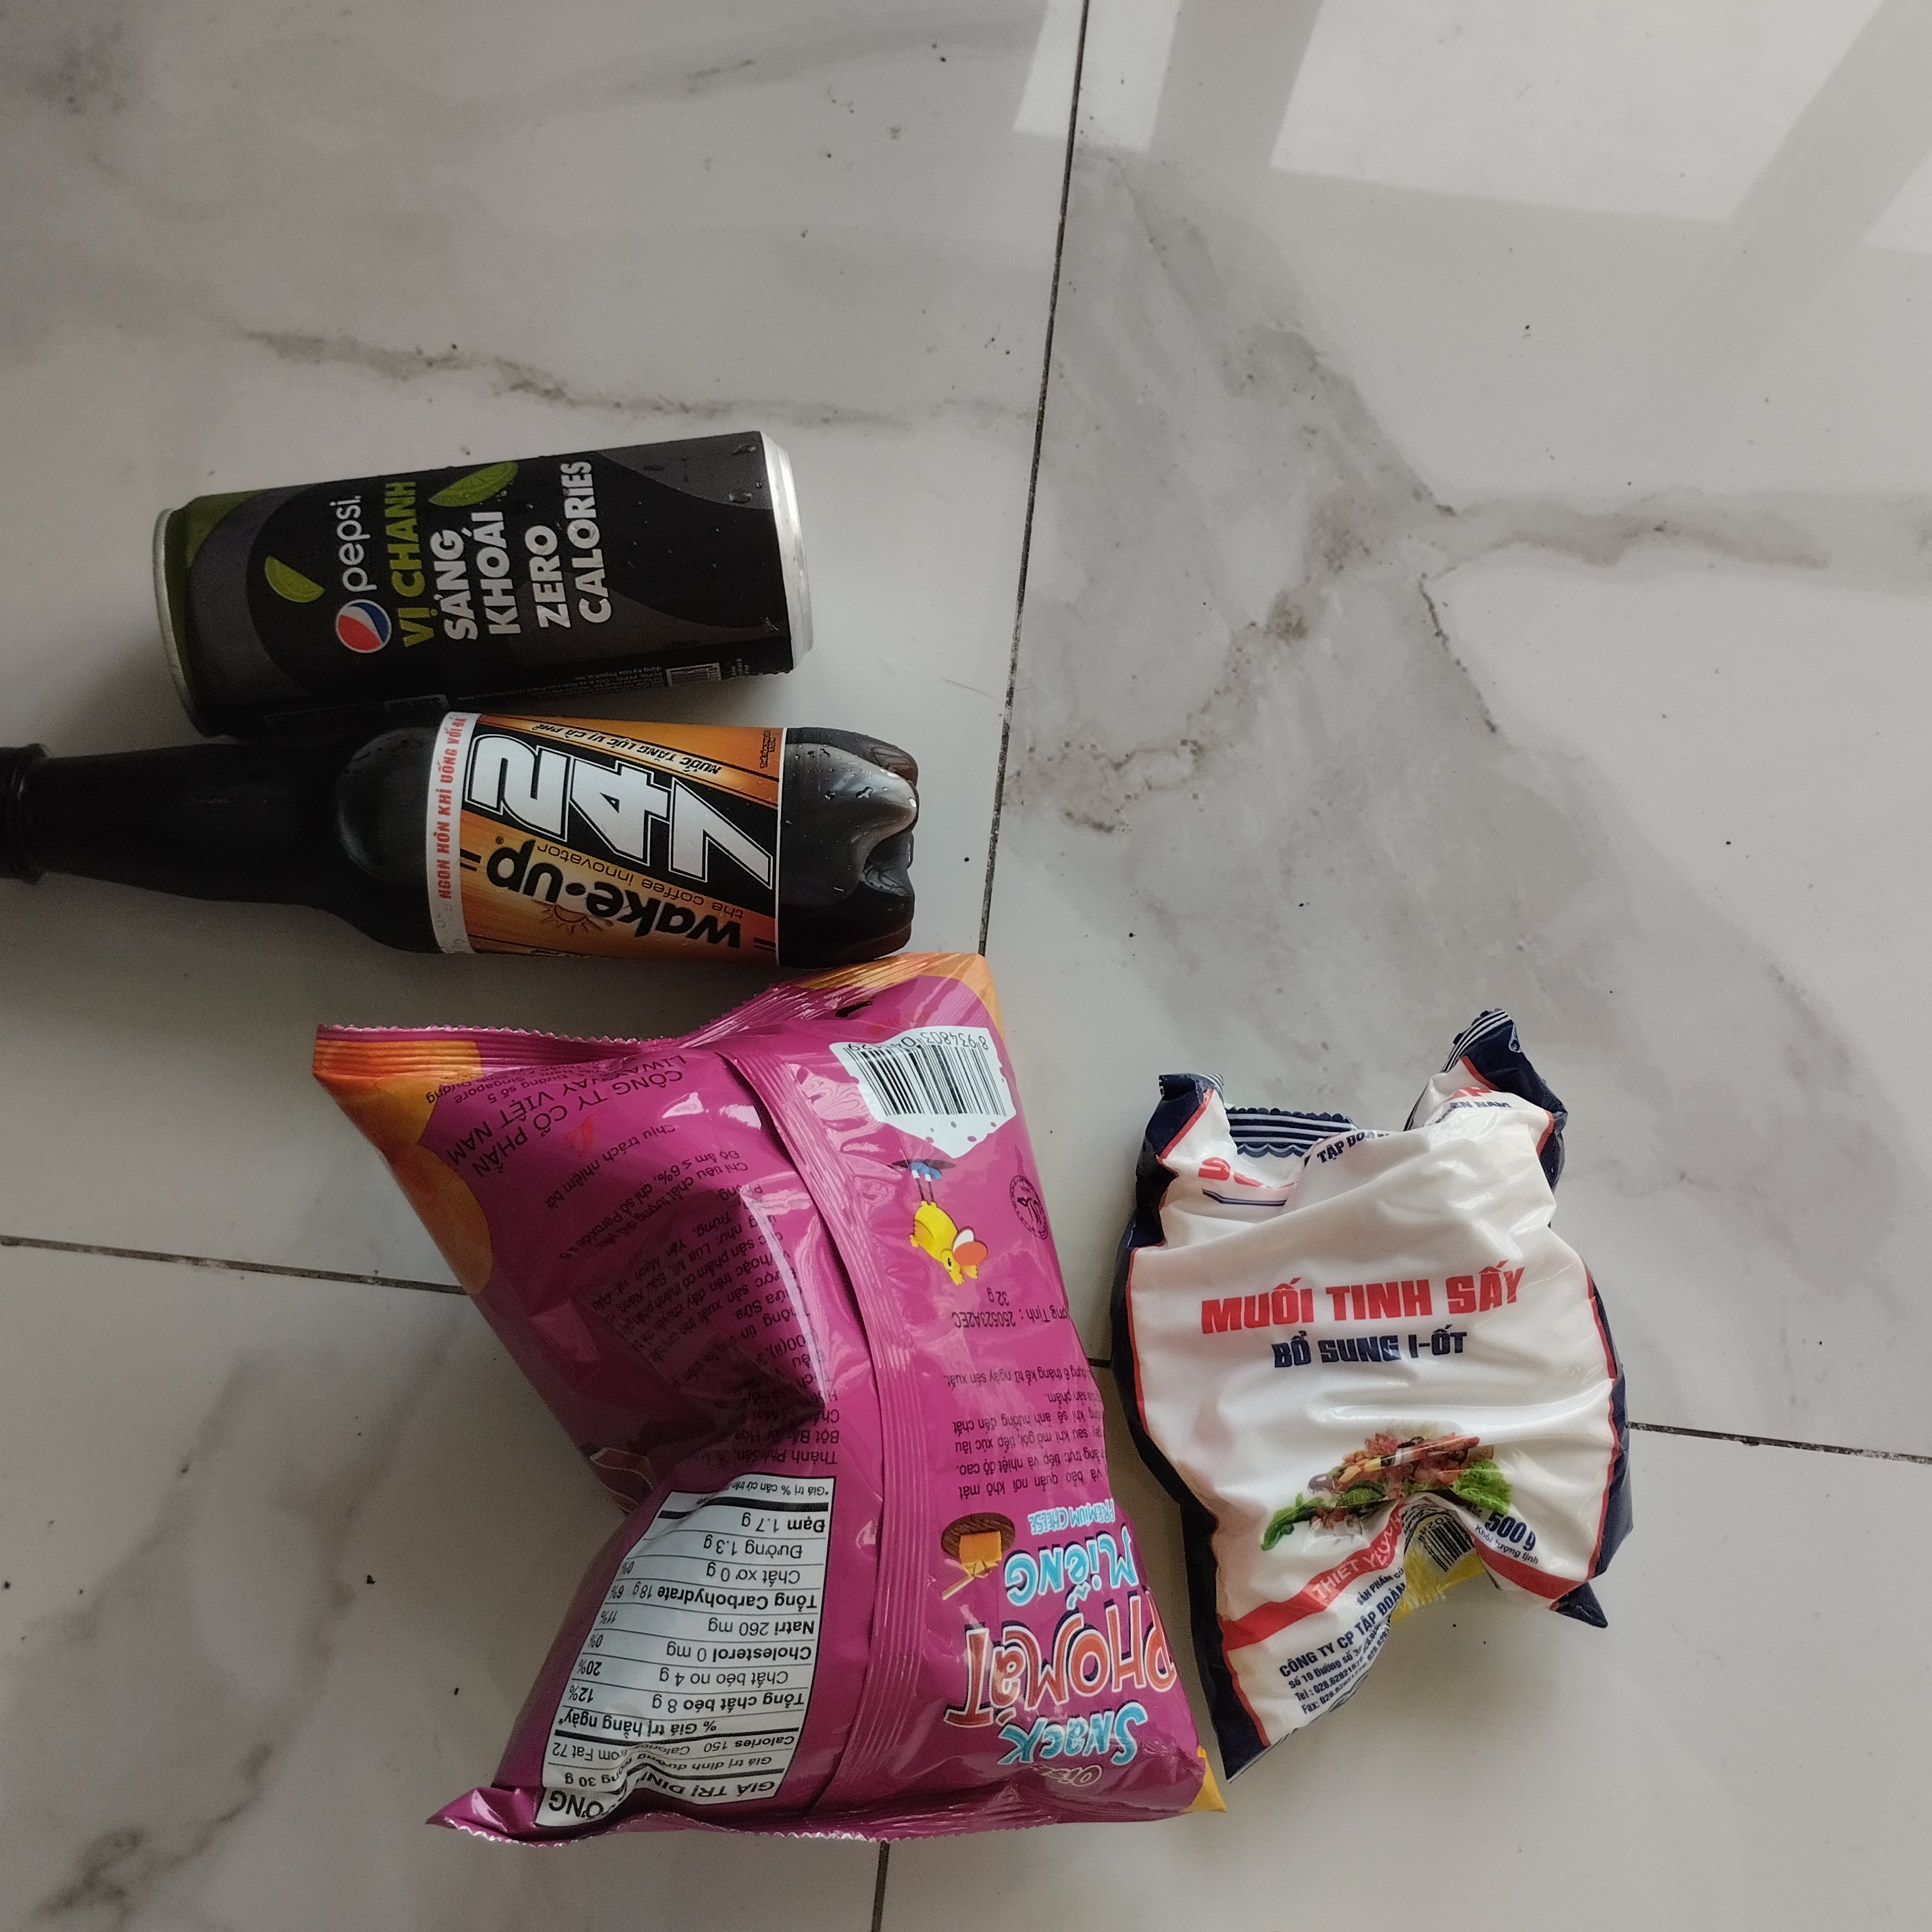247: (11, 704, 954, 1010)
Oishi_phomat: (301, 920, 1235, 1891)
Pepsi: (150, 418, 819, 715)
Salt: (1122, 973, 1642, 1778)
